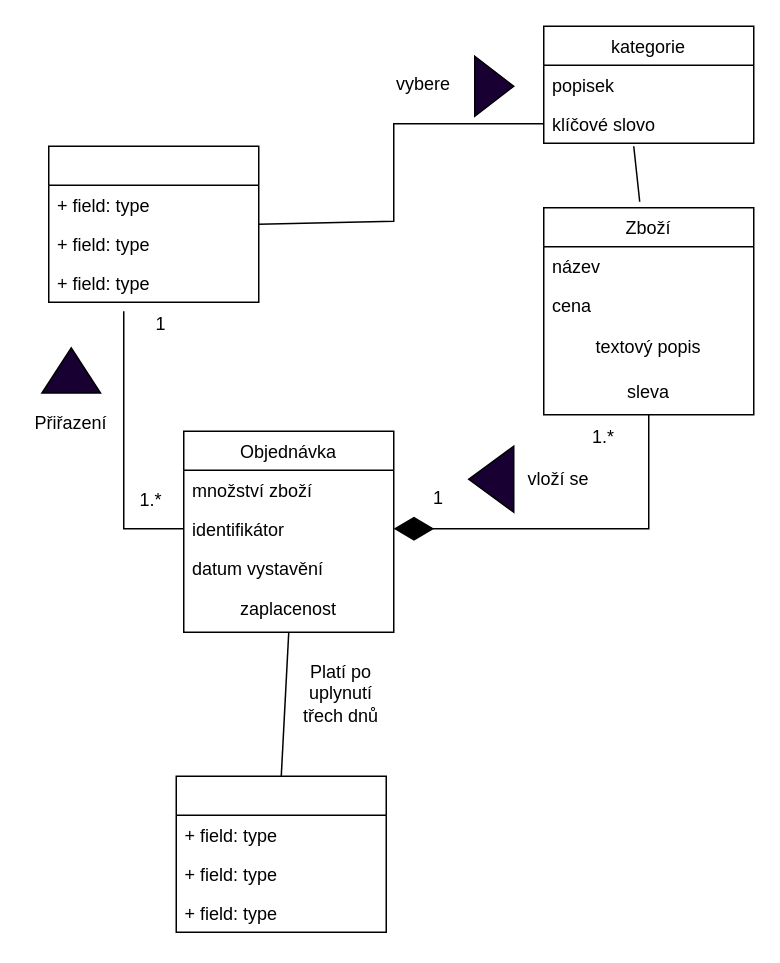
This 780x963 diagram has some shape labels left out. The box of each missing label's shape, as (x1, y1, x2, y2) in pixels:
zrušení objednávky: (175, 775, 386, 932)
Zákazník: (47, 145, 259, 302)
